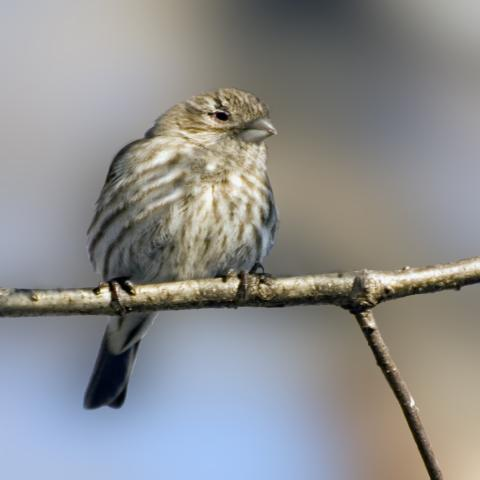bird: (80, 85, 282, 410)
